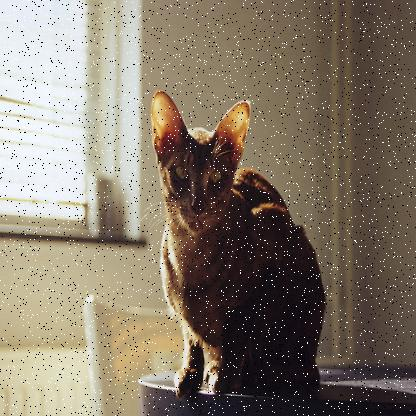cat: (143, 90, 325, 406)
